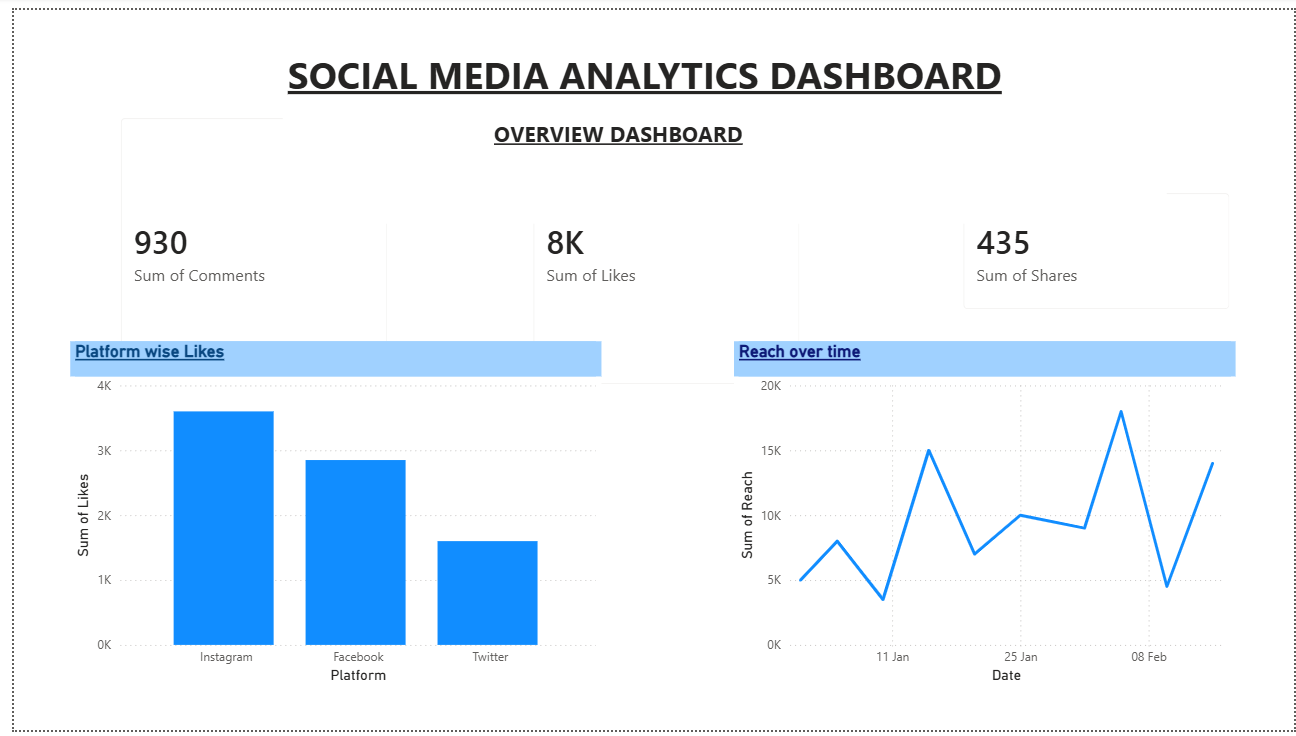

What the dashboard file says about the page in this screenshot:
{"tool":"powerbi","page":{"name":"Page 1","canvas":[1280,720],"ordinal":0},"visuals":[{"type":"cardVisual","fields":{"Data":["Sum(Sheet1.Likes)"]},"box":[501.9,91.7,300,300],"z":0},{"type":"cardVisual","fields":{"Data":["Sum(Sheet1.Comments)"]},"box":[90.5,91.7,300,300],"z":1000},{"type":"cardVisual","fields":{"Data":["Sum(Sheet1.Shares)"]},"box":[932.6,166.5,300,150],"z":2000},{"type":"clusteredColumnChart","title":"Platform wise Likes","fields":{"Category":["Sheet1.Platform"],"Y":["Sum(Sheet1.Likes)","Sum(Sheet1.Likes)"]},"box":[56.7,331.8,530.8,347.5],"z":3000},{"type":"lineChart","title":"Reach over time","fields":{"Y":["Sum(Sheet1.Reach)"],"Category":["Sheet1.Date"]},"box":[720.2,331.8,501.9,347.5],"z":4000},{"type":"textbox","box":[269,33.8,884.3,179.8],"z":5000},{"type":"textbox","box":[475.3,103.8,292,62.7],"z":6000}]}

Visuals, with their boxes in screenshot pixels (x1, y1, x2, y2), scaled from the page's 1280x720 canvas onto the 1296x736 screenshot:
cardVisual - Sum(Sheet1.Likes): BBox(508, 94, 812, 400)
cardVisual - Sum(Sheet1.Comments): BBox(92, 94, 395, 400)
cardVisual - Sum(Sheet1.Shares): BBox(944, 170, 1248, 324)
"Platform wise Likes" clusteredColumnChart: BBox(57, 339, 595, 694)
"Reach over time" lineChart: BBox(729, 339, 1237, 694)
textbox: BBox(272, 35, 1168, 218)
textbox: BBox(481, 106, 777, 170)
